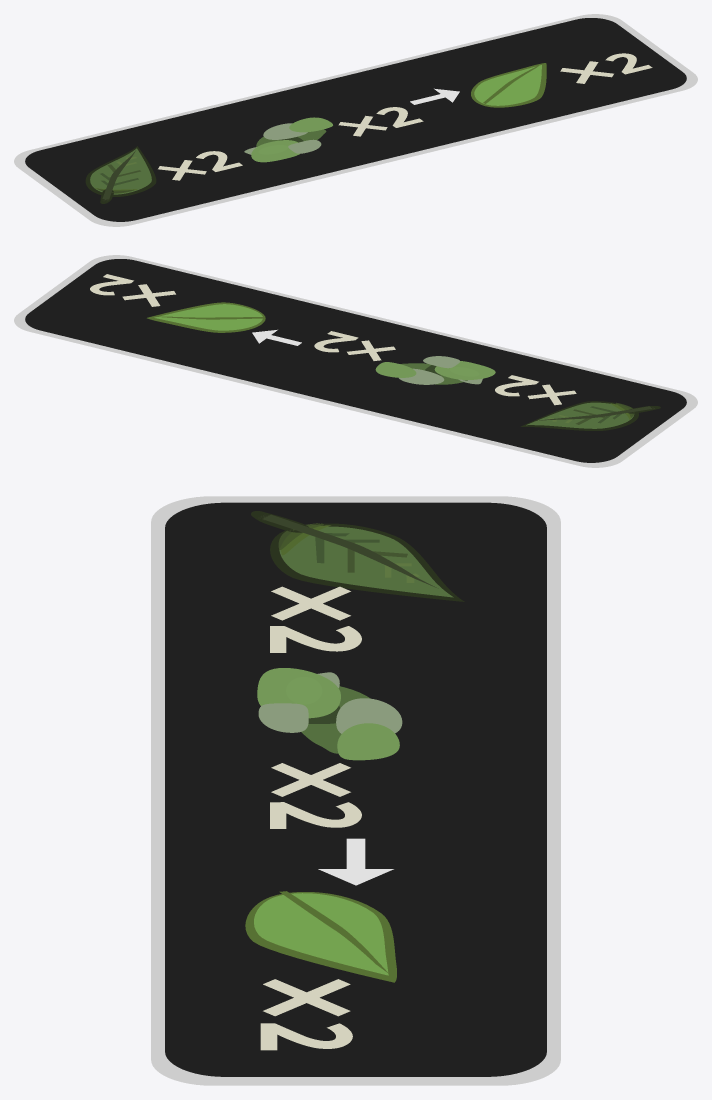
Rendered from SUIRENNHYOU.fbx.
The picture shows the model from 3 angles, top to bottom: view 1: azimuth 30°, elevation 25°; view 2: azimuth 150°, elevation 25°; view 3: azimuth 270°, elevation 25°; orthographic projection. The views are drawn at different scales.
Parts seen in each view (by area): view 1: Curve.001, Curve, Curve.038, Curve.009, Curve.037, Curve.029, Curve.006, Curve.026, Curve.024, Curve.040, Curve.036, Curve.035; view 2: Curve.001, Curve, Curve.038, Curve.009, Curve.037, Curve.029, Curve.006, Curve.026, Curve.024, Curve.036, Curve.040, Curve.035; view 3: Curve.001, Curve, Curve.038, Curve.009, Curve.037, Curve.029, Curve.006, Curve.026, Curve.024, Curve.040, Curve.035, Curve.036 (+3 smaller).
Boxes of the visible parts, <box> form: Curve.001: <box>25,18,686,221</box>; Curve: <box>14,14,697,226</box>; Curve.038: <box>474,65,541,105</box>; Curve.009: <box>90,148,151,194</box>; Curve.037: <box>471,63,546,107</box>; Curve.029: <box>251,140,299,162</box>; Curve.006: <box>85,146,156,196</box>; Curve.026: <box>289,117,332,132</box>; Curve.024: <box>263,123,307,139</box>; Curve.040: <box>605,53,652,74</box>; Curve.036: <box>196,151,242,171</box>; Curve.035: <box>376,107,423,127</box>; Curve.001: <box>25,259,686,462</box>; Curve: <box>14,255,697,467</box>; Curve.038: <box>154,304,262,330</box>; Curve.009: <box>526,402,634,428</box>; Curve.037: <box>147,302,265,332</box>; Curve.029: <box>434,361,495,379</box>; Curve.006: <box>520,401,638,430</box>; Curve.026: <box>375,362,416,377</box>; Curve.024: <box>399,368,444,384</box>; Curve.036: <box>495,375,538,396</box>; Curve.040: <box>90,274,133,295</box>; Curve.035: <box>314,331,358,352</box>; Curve.001: <box>165,502,546,1076</box>; Curve: <box>151,496,560,1085</box>; Curve.038: <box>254,893,388,975</box>; Curve.009: <box>279,526,453,597</box>; Curve.037: <box>245,892,396,982</box>; Curve.029: <box>257,668,340,718</box>; Curve.006: <box>270,523,464,601</box>; Curve.026: <box>337,723,399,760</box>; Curve.024: <box>336,698,402,733</box>; Curve.040: <box>260,1023,352,1050</box>; Curve.035: <box>270,802,361,828</box>; Curve.036: <box>270,626,361,652</box>.
Bounding box in the file's own units: 10.83 × 0.07 × 3.18.
